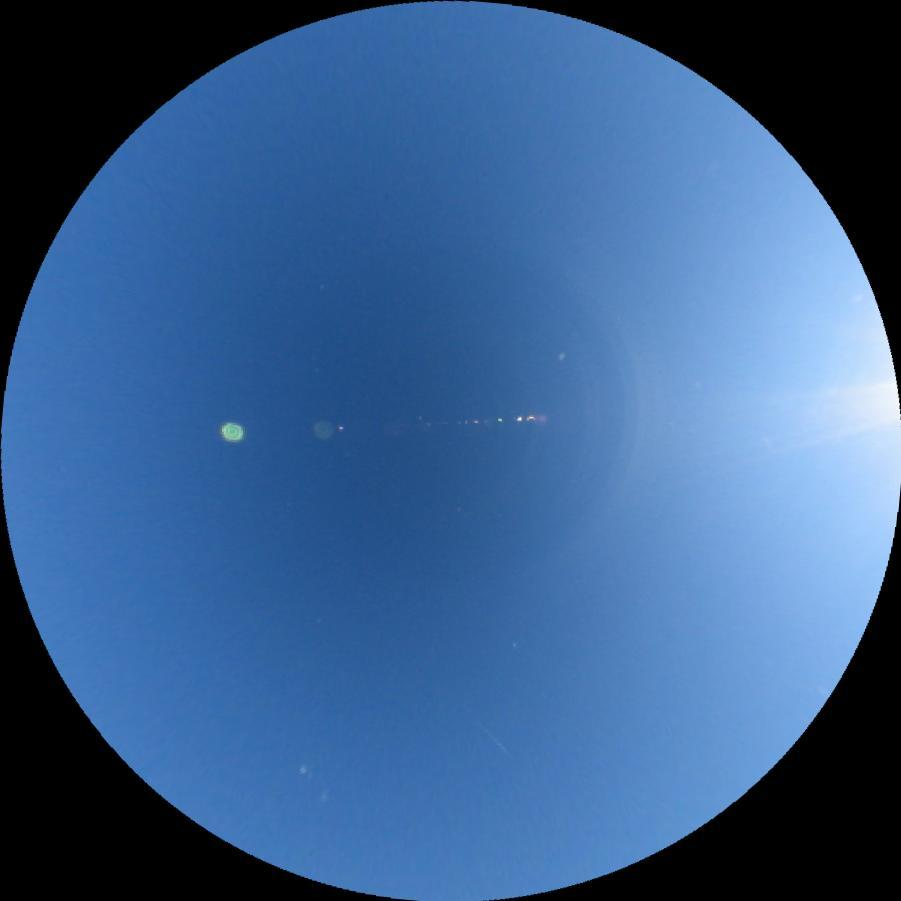contrail young: (469, 713, 509, 756)
